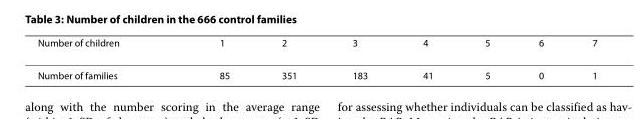table: (36, 36, 596, 80)
table column: (36, 36, 168, 80), (168, 36, 255, 80), (324, 36, 394, 80), (255, 36, 324, 80), (394, 36, 458, 80), (458, 36, 513, 80), (513, 36, 567, 80), (567, 36, 596, 80)
table column header: (36, 36, 596, 58)
table row: (36, 36, 596, 58), (36, 58, 596, 80)
